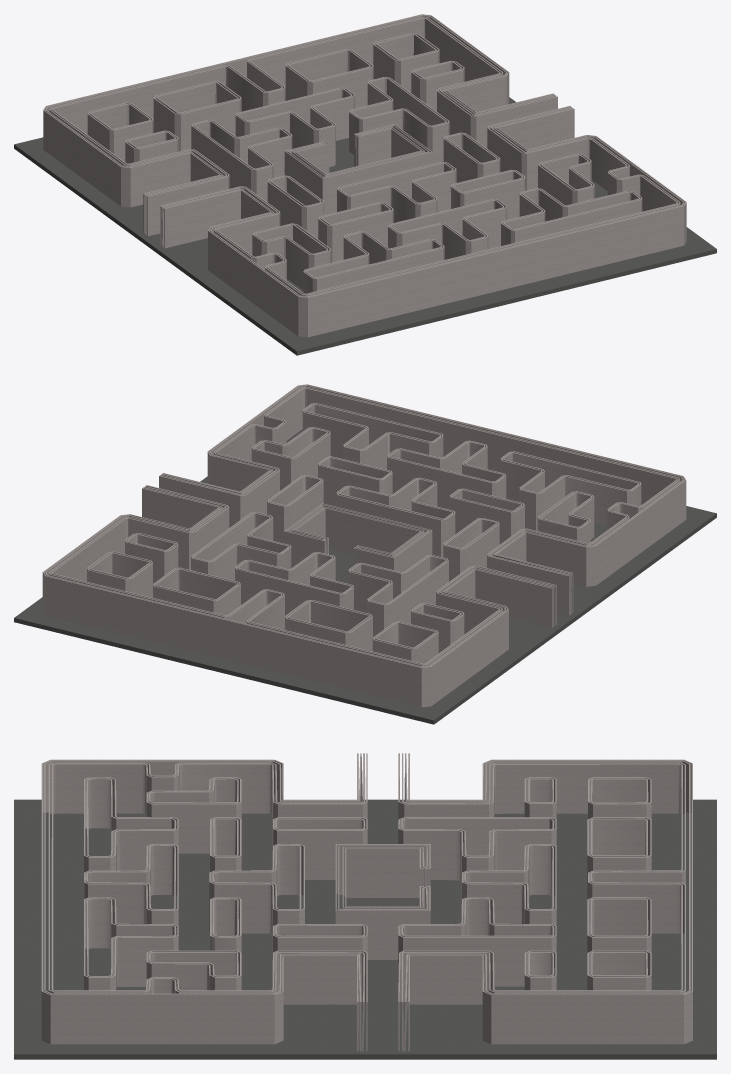
Rendered from Map_MainMenu_Textured.obj.
3 renders of one model, top to bottom at view 1: azimuth 30°, elevation 25°; view 2: azimuth 150°, elevation 25°; view 3: azimuth 270°, elevation 25°, orthographic. The views are drawn at different scales.
Visible parts, largest first — view 1: map; view 2: map; view 3: map.
Boxes of the visible parts, x1=… form: map: x1=14, y1=14, x2=716, y2=355; map: x1=14, y1=384, x2=716, y2=724; map: x1=14, y1=753, x2=716, y2=1059.
Size of the model in its own units: 24 by 2.42 by 28.
2 materials, 2 textured.
